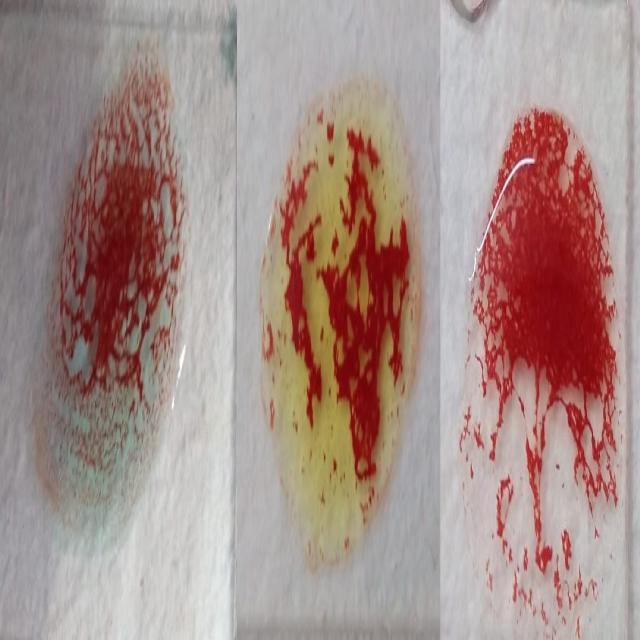A: (34, 45, 186, 552)
B: (263, 91, 419, 543)
D: (462, 108, 630, 626)
